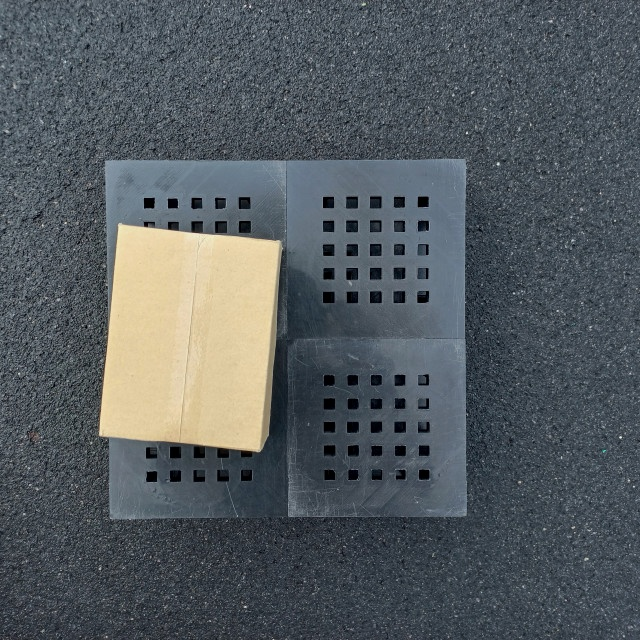box: (97, 223, 282, 452)
pallet: (96, 151, 476, 524)
